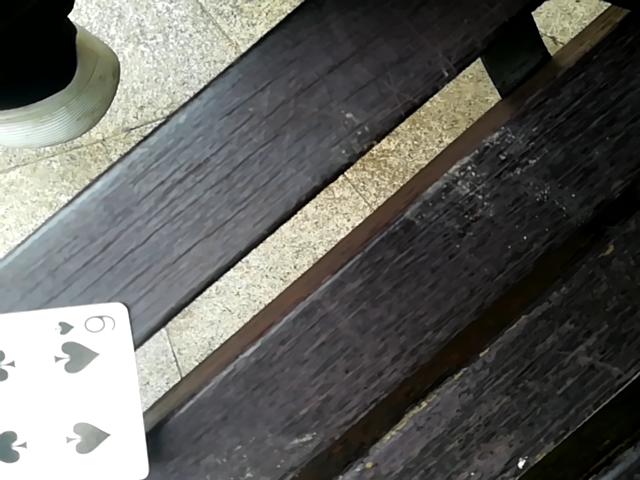ht 6: (2, 304, 150, 479)
